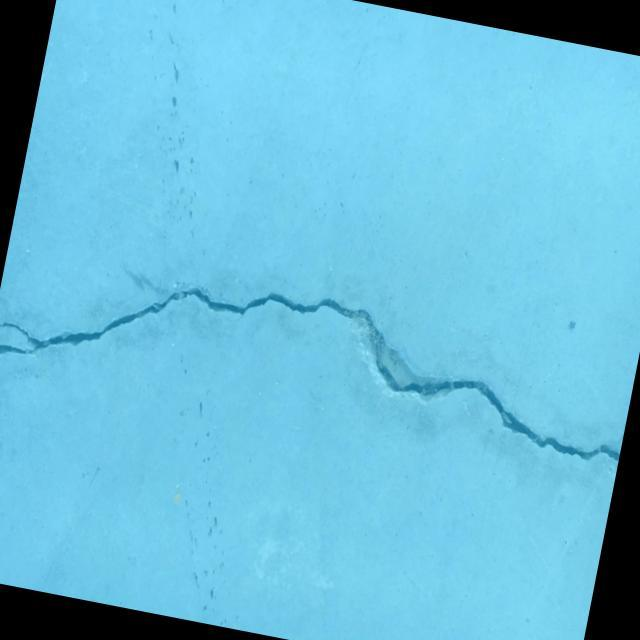crack: (0, 236, 638, 479)
